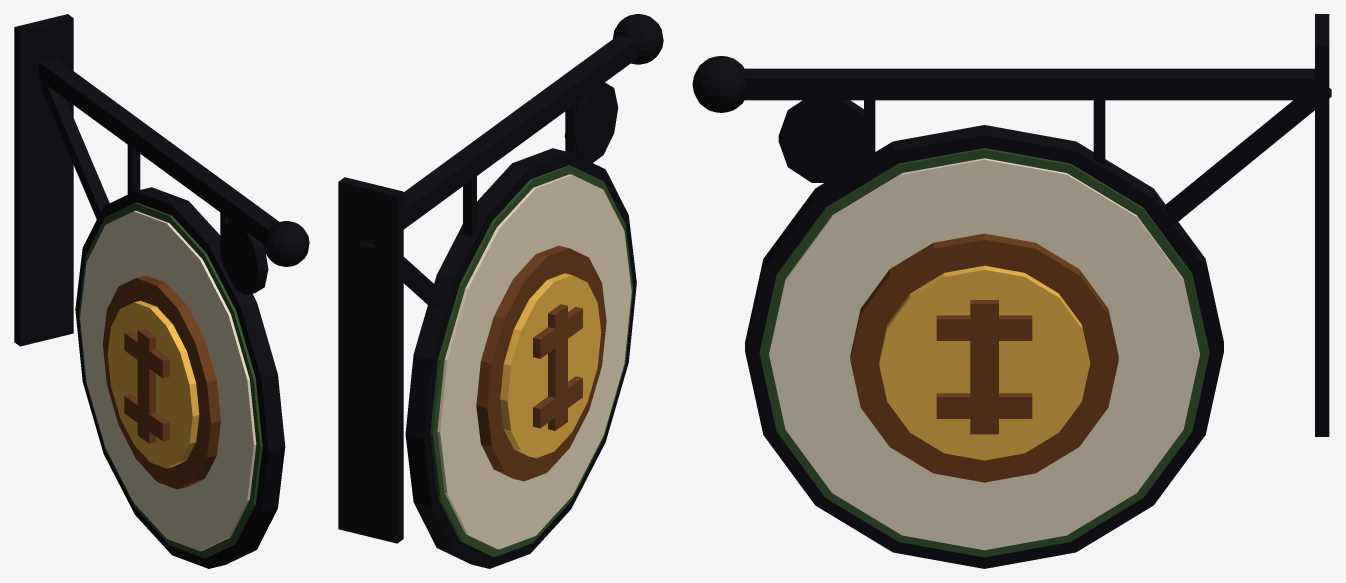
File: shop_bank_sign.gltf
The picture shows the model from 3 angles, left to right: view 1: azimuth 30°, elevation 25°; view 2: azimuth 150°, elevation 25°; view 3: azimuth 270°, elevation 25°; orthographic projection. The views are drawn at different scales.
Parts seen in each view (by area): view 1: ShopBankSignShopIron, ShopBankSignShopCream, ShopBankSignShopLeather, ShopBankSignShopGold, ShopBankSignShopCloth; view 2: ShopBankSignShopIron, ShopBankSignShopCream, ShopBankSignShopLeather, ShopBankSignShopGold, ShopBankSignShopCloth; view 3: ShopBankSignShopCream, ShopBankSignShopIron, ShopBankSignShopLeather, ShopBankSignShopGold, ShopBankSignShopCloth.
Part boxes in pixels (left/top/right/bottom): ShopBankSignShopIron: left=14, top=14, right=309, bottom=568; ShopBankSignShopCream: left=80, top=211, right=256, bottom=551; ShopBankSignShopLeather: left=102, top=275, right=220, bottom=489; ShopBankSignShopGold: left=107, top=300, right=199, bottom=468; ShopBankSignShopCloth: left=78, top=202, right=262, bottom=558; ShopBankSignShopIron: left=338, top=14, right=663, bottom=568; ShopBankSignShopCream: left=437, top=174, right=631, bottom=549; ShopBankSignShopLeather: left=476, top=245, right=606, bottom=481; ShopBankSignShopGold: left=500, top=273, right=601, bottom=458; ShopBankSignShopCloth: left=430, top=165, right=633, bottom=556; ShopBankSignShopCream: left=769, top=158, right=1199, bottom=550; ShopBankSignShopIron: left=692, top=14, right=1331, bottom=568; ShopBankSignShopLeather: left=850, top=233, right=1118, bottom=482; ShopBankSignShopGold: left=879, top=265, right=1089, bottom=460; ShopBankSignShopCloth: left=759, top=148, right=1209, bottom=557.
Bounding box in the file's own units: 0.22 × 1.23 × 1.33.
